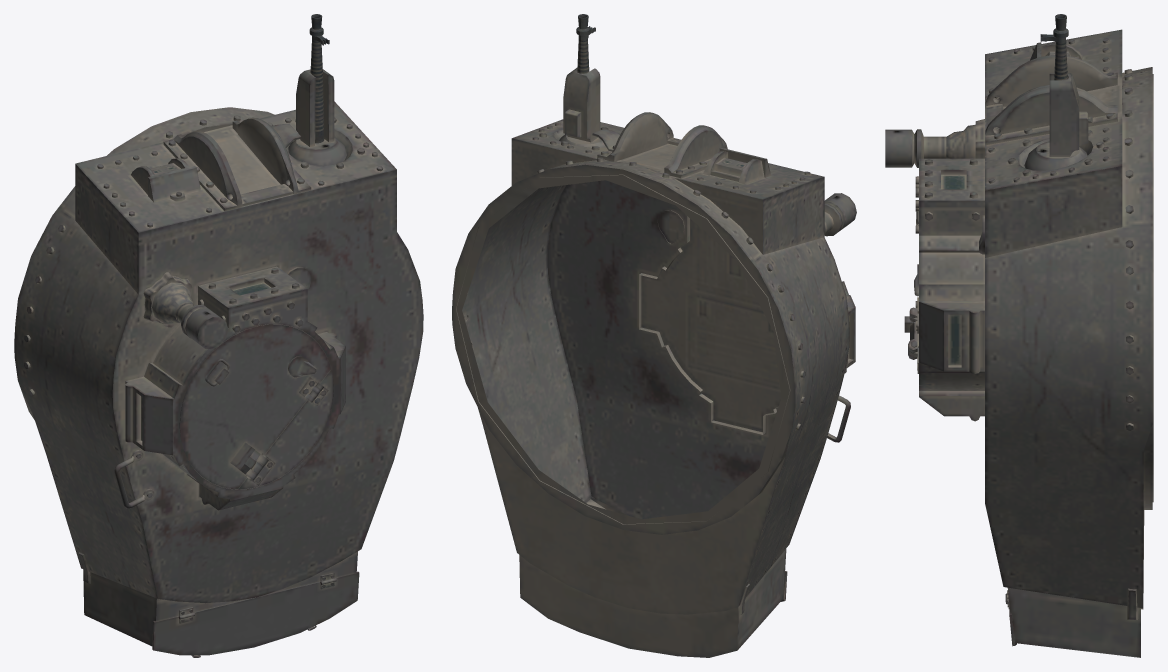
File: Turret_02.glb
3 views of the same model, side by side, from view 1: azimuth 30°, elevation 25°; view 2: azimuth 150°, elevation 25°; view 3: azimuth 270°, elevation 25° (orthographic). The views are drawn at different scales.
Parts seen in each view (by area): view 1: set_0_group_0; view 2: set_0_group_0; view 3: set_0_group_0.
Boxes of the visible parts, x1,y1,x2,y2 form: set_0_group_0: (14,14,423,657); set_0_group_0: (452,14,856,657); set_0_group_0: (885,14,1153,657).
Bounding box in the file's own units: 1.38 × 2.25 × 0.839.
Materials: 1 (1 with a texture image).
